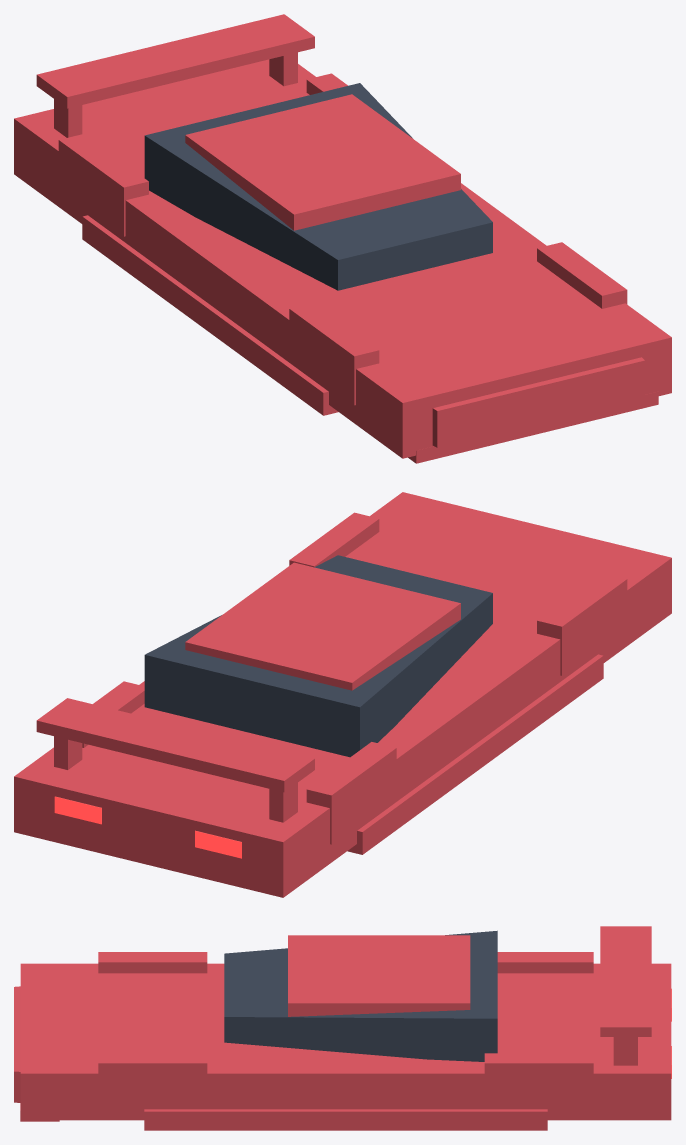
Rendered from car_speedster.glb.
3 views of the same model, one above another, from view 1: azimuth 30°, elevation 25°; view 2: azimuth 150°, elevation 25°; view 3: azimuth 270°, elevation 25° (orthographic). The views are drawn at different scales.
Visible parts, largest first — view 1: Mesh; view 2: Mesh; view 3: Mesh.
Boxes of the visible parts, x1,y1,x2,y2 form: Mesh: (14, 14, 671, 463); Mesh: (14, 492, 671, 897); Mesh: (14, 926, 671, 1130).
Size of the model in its own units: 1.79 by 0.76 by 4.35.
